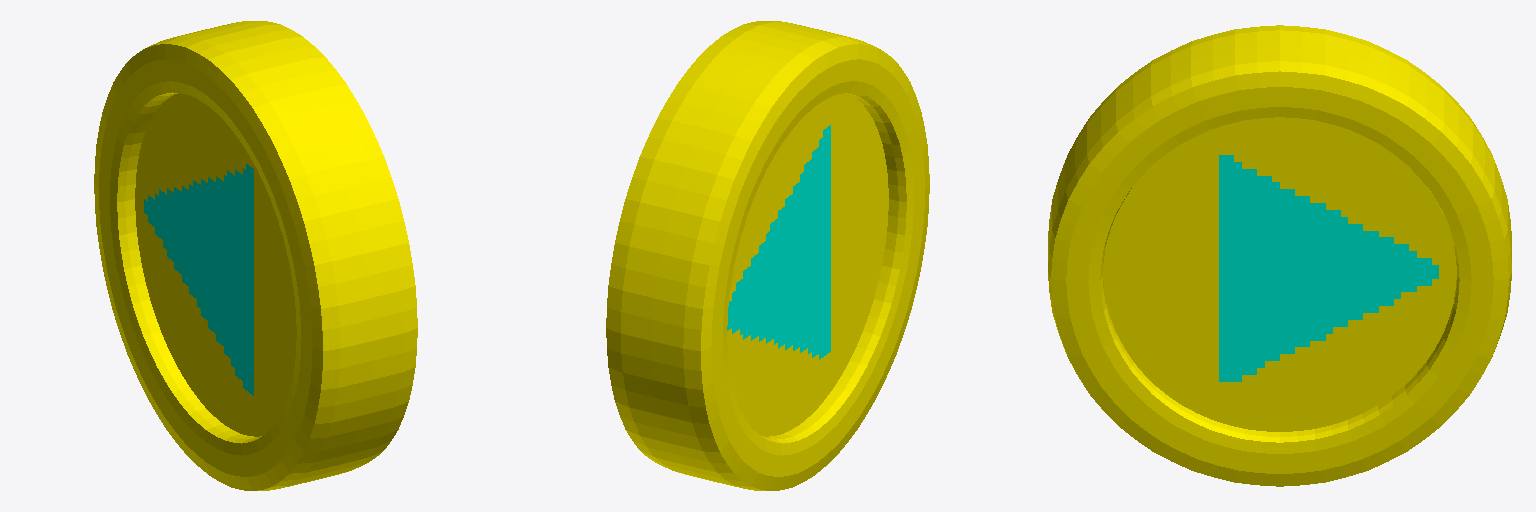
3 views of the same model, side by side, from view 1: azimuth 30°, elevation 25°; view 2: azimuth 150°, elevation 25°; view 3: azimuth 270°, elevation 25° (orthographic).
Visible parts, largest first — view 1: Cylinder; view 2: Cylinder; view 3: Cylinder.
Boxes of the visible parts, x1=… form: Cylinder: x1=94, y1=21, x2=417, y2=490; Cylinder: x1=606, y1=21, x2=929, y2=490; Cylinder: x1=1048, y1=25, x2=1511, y2=486.
Size of the model in its own units: 0.4988 by 1.99 by 1.99.
Materials: 1 (1 with a texture image).